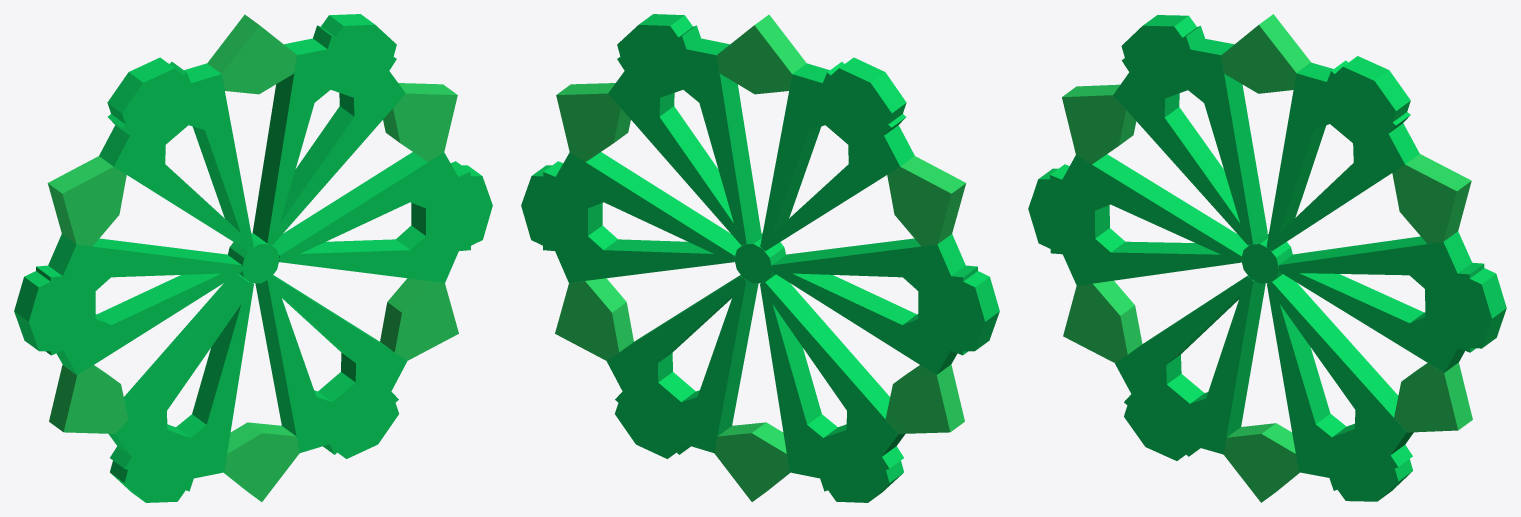
The model's file is rosaceaO2.glb.
3 renders of one model, left to right at view 1: azimuth 30°, elevation 25°; view 2: azimuth 150°, elevation 25°; view 3: azimuth 330°, elevation 25°, orthographic.
Visible parts, largest first — view 1: root; view 2: root; view 3: root.
Part boxes in pixels (box(x1,y1,x2,y2)): root: box(14, 14, 492, 502); root: box(521, 14, 999, 502); root: box(1028, 14, 1506, 502).
Size of the model in its own units: 5.25 by 5.17 by 0.2885.
